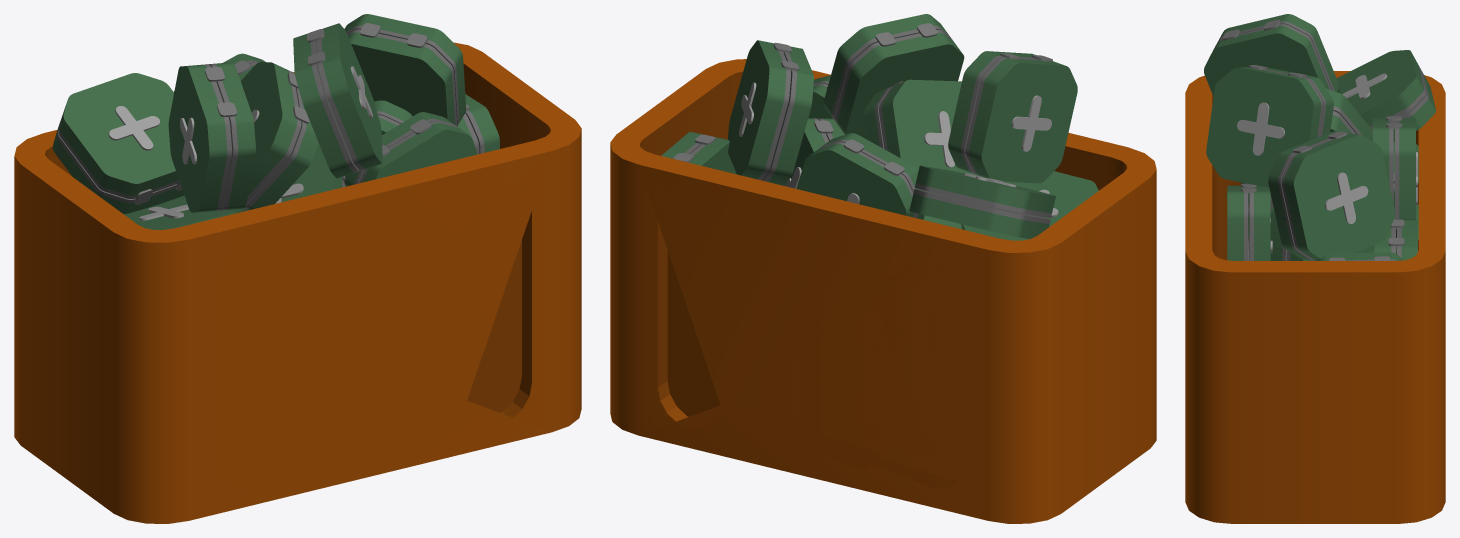
Rendered from Ammo Box D.fbx.
3 renders of one model, left to right at view 1: azimuth 30°, elevation 25°; view 2: azimuth 150°, elevation 25°; view 3: azimuth 270°, elevation 25°, orthographic. The views are drawn at different scales.
Visible parts, largest first — view 1: Ammo Box D.026, Ammo Box D.018, Ammo Box D.020, Ammo Box D, Ammo Box D.024, Ammo Box D.022, Ammo Box D.017, Ammo Box D.011, Ammo Box D.016, Ammo Box D.021, Ammo Box D.019; view 2: Ammo Box D.026, Ammo Box D.020, Ammo Box D.024, Ammo Box D, Ammo Box D.018, Ammo Box D.022, Ammo Box D.023, Ammo Box D.011, Ammo Box D.021, Ammo Box D.019, Ammo Box D.017; view 3: Ammo Box D.026, Ammo Box D.024, Ammo Box D, Ammo Box D.020, Ammo Box D.018, Ammo Box D.017, Ammo Box D.023, Ammo Box D.005, Ammo Box D.022, Ammo Box D.019, Ammo Box D.021.
Boxes of the visible parts, x1=… form: Ammo Box D.026: x1=14, y1=42, x2=581, y2=523; Ammo Box D.018: x1=52, y1=73, x2=184, y2=213; Ammo Box D.020: x1=168, y1=62, x2=255, y2=212; Ammo Box D: x1=293, y1=23, x2=382, y2=178; Ammo Box D.024: x1=344, y1=14, x2=466, y2=126; Ammo Box D.022: x1=240, y1=62, x2=318, y2=211; Ammo Box D.017: x1=344, y1=112, x2=477, y2=186; Ammo Box D.011: x1=124, y1=195, x2=242, y2=229; Ammo Box D.016: x1=275, y1=143, x2=345, y2=203; Ammo Box D.021: x1=457, y1=94, x2=499, y2=154; Ammo Box D.019: x1=374, y1=100, x2=412, y2=134; Ammo Box D.026: x1=610, y1=59, x2=1156, y2=523; Ammo Box D.020: x1=948, y1=51, x2=1077, y2=183; Ammo Box D.024: x1=728, y1=40, x2=813, y2=185; Ammo Box D: x1=823, y1=14, x2=964, y2=139; Ammo Box D.018: x1=909, y1=165, x2=1055, y2=238; Ammo Box D.022: x1=863, y1=79, x2=981, y2=176; Ammo Box D.023: x1=796, y1=133, x2=924, y2=219; Ammo Box D.011: x1=961, y1=171, x2=1098, y2=240; Ammo Box D.021: x1=661, y1=132, x2=736, y2=174; Ammo Box D.019: x1=784, y1=118, x2=844, y2=188; Ammo Box D.017: x1=808, y1=75, x2=832, y2=118; Ammo Box D.026: x1=1185, y1=71, x2=1445, y2=523; Ammo Box D.024: x1=1268, y1=131, x2=1395, y2=260; Ammo Box D: x1=1206, y1=65, x2=1333, y2=187; Ammo Box D.020: x1=1204, y1=14, x2=1339, y2=96; Ammo Box D.018: x1=1336, y1=50, x2=1435, y2=141; Ammo Box D.017: x1=1227, y1=183, x2=1272, y2=260; Ammo Box D.023: x1=1372, y1=116, x2=1417, y2=237; Ammo Box D.005: x1=1374, y1=219, x2=1417, y2=260; Ammo Box D.022: x1=1327, y1=89, x2=1372, y2=140; Ammo Box D.019: x1=1270, y1=207, x2=1374, y2=260; Ammo Box D.021: x1=1315, y1=252, x2=1403, y2=260.
Size of the model in its own units: 2.16 by 1.79 by 1.18.
